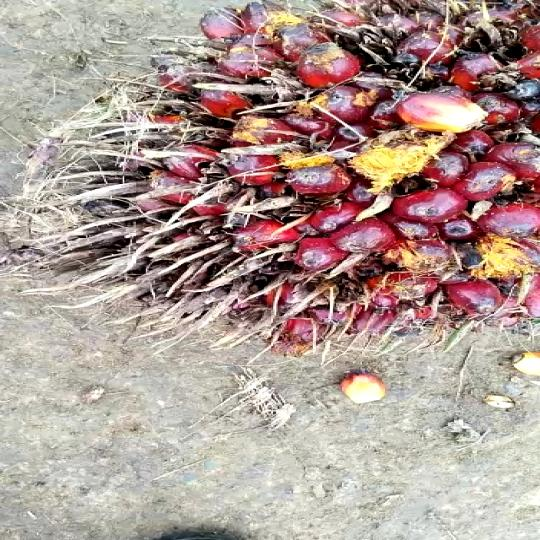masak: (19, 0, 540, 348)
